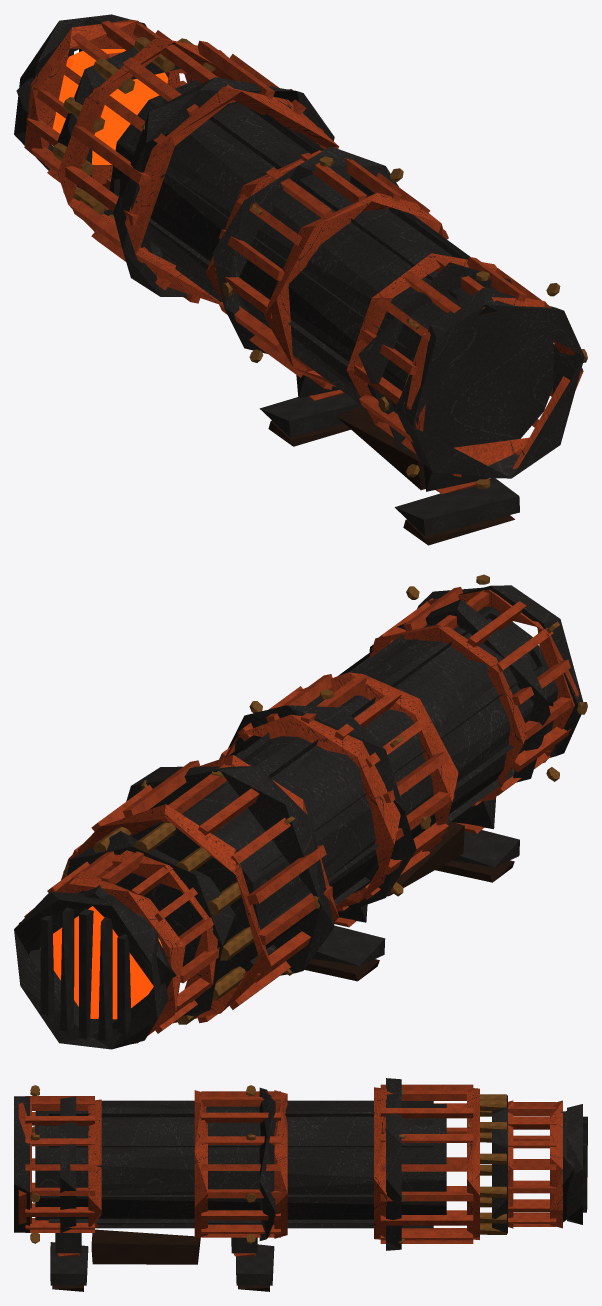
The model's file is kiln-focus-stowed-lod2.glb.
3 renders of one model, top to bottom at view 1: azimuth 30°, elevation 25°; view 2: azimuth 150°, elevation 25°; view 3: azimuth 270°, elevation 25°, orthographic. The views are drawn at different scales.
Visible parts, largest first — view 1: Forged barrel core, Machined barrel rim, Ceramic vent header, Machined barrel rim.003, Machined barrel rim.002, Ceramic vent header.003, Backpack mount shoe, Ceramic vent footer.001, Ceramic vent footer, Ceramic vent header.002, Machined barrel rim.001, Banked ember recessed chamber (+29 smaller); view 2: Forged barrel core, Machined barrel rim.003, Muzzle lip, Ceramic vent footer.003, Ceramic vent footer, Machined barrel rim.002, Machined barrel rim.004, Machined barrel rim.001, Ceramic vent footer.002, Ceramic vent header.003, Ceramic vent footer.001, Banked ember recessed chamber (+44 smaller); view 3: Forged barrel core, Insulated palm grip, Machined barrel rim.003, Machined barrel rim.002, Longitudinal iron stave.001, Machined barrel rim.001, Ceramic vent header.003, Longitudinal iron stave.002, Muzzle lip, Ceramic vent footer, Ceramic vent header, Ceramic vent footer.003 (+48 smaller).
Boxes of the visible parts, x1=… form: Forged barrel core: x1=109, y1=80, x2=553, y2=447; Machined barrel rim: x1=395, y1=288, x2=584, y2=478; Ceramic vent header: x1=125, y1=86, x2=338, y2=304; Machined barrel rim.003: x1=113, y1=77, x2=334, y2=297; Machined barrel rim.002: x1=212, y1=146, x2=398, y2=353; Ceramic vent header.003: x1=263, y1=192, x2=445, y2=387; Backpack mount shoe: x1=394, y1=478, x2=519, y2=536; Ceramic vent footer.001: x1=24, y1=19, x2=180, y2=184; Ceramic vent footer: x1=57, y1=37, x2=235, y2=231; Ceramic vent header.002: x1=403, y1=297, x2=583, y2=468; Machined barrel rim.001: x1=358, y1=262, x2=511, y2=451; Banked ember recessed chamber: x1=52, y1=49, x2=168, y2=164; Forged barrel core: x1=109, y1=607, x2=558, y2=978; Machined barrel rim.003: x1=126, y1=766, x2=334, y2=975; Muzzle lip: x1=14, y1=892, x2=168, y2=1049; Ceramic vent footer.003: x1=225, y1=714, x2=400, y2=908; Ceramic vent footer: x1=61, y1=804, x2=271, y2=1023; Machined barrel rim.002: x1=228, y1=705, x2=416, y2=914; Machined barrel rim.004: x1=67, y1=831, x2=235, y2=1021; Machined barrel rim.001: x1=369, y1=599, x2=550, y2=782; Ceramic vent footer.002: x1=369, y1=625, x2=527, y2=801; Ceramic vent header.003: x1=298, y1=672, x2=458, y2=851; Ceramic vent footer.001: x1=24, y1=871, x2=185, y2=1044; Banked ember recessed chamber: x1=53, y1=906, x2=162, y2=1019; Forged barrel core: x1=35, y1=1103, x2=446, y2=1224; Insulated palm grip: x1=91, y1=1229, x2=200, y2=1264; Machined barrel rim.003: x1=386, y1=1078, x2=401, y2=1250; Machined barrel rim.002: x1=259, y1=1087, x2=275, y2=1240; Longitudinal iron stave.001: x1=48, y1=1146, x2=433, y2=1158; Machined barrel rim.001: x1=60, y1=1096, x2=76, y2=1232; Ceramic vent header.003: x1=194, y1=1090, x2=207, y2=1238; Longitudinal iron stave.002: x1=48, y1=1113, x2=433, y2=1125; Muzzle lip: x1=567, y1=1104, x2=582, y2=1224; Ceramic vent footer: x1=467, y1=1088, x2=479, y2=1239; Ceramic vent header: x1=374, y1=1087, x2=386, y2=1239; Ceramic vent footer.003: x1=274, y1=1090, x2=287, y2=1238.
Size of the model in its own units: 0.2539 by 0.3152 by 0.8645.
Materials: 5 (4 with a texture image).
